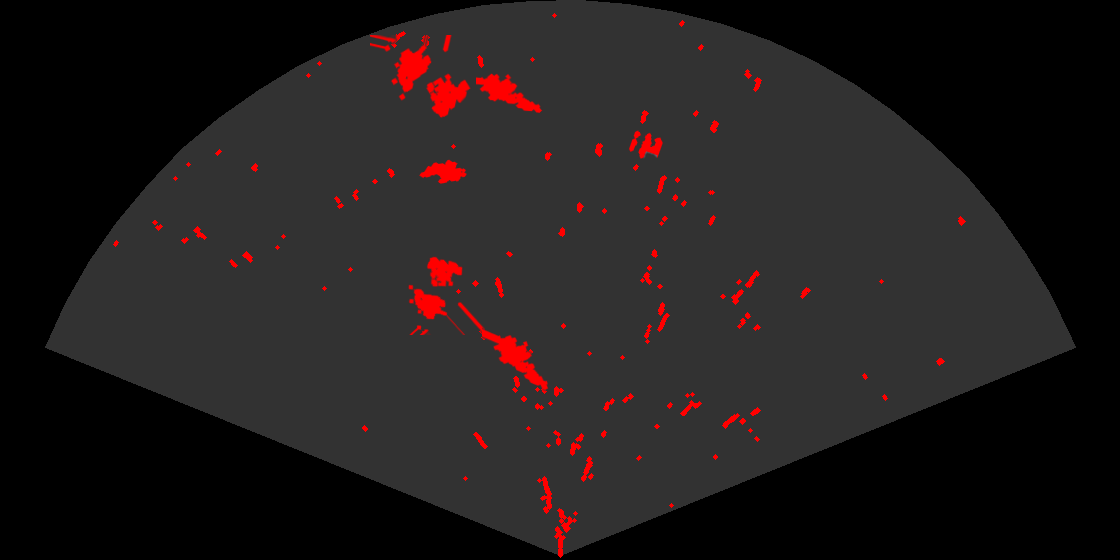AUV: (418, 158, 468, 185)
ball: (627, 129, 664, 160)
cage: (370, 35, 472, 120), (407, 255, 485, 335)
frogman: (482, 327, 550, 392), (476, 72, 544, 115)
